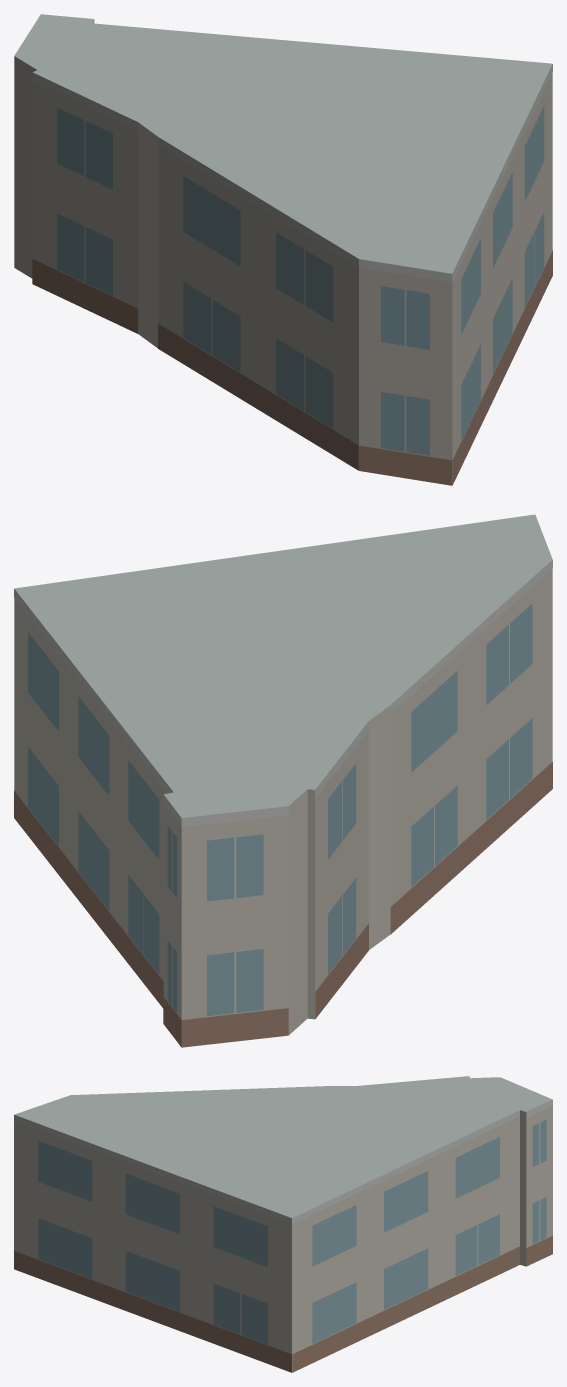
File: survey-upis-32885989.glb
3 views of the same model, one above another, from view 1: azimuth 30°, elevation 25°; view 2: azimuth 150°, elevation 25°; view 3: azimuth 270°, elevation 25° (orthographic). The views are drawn at different scales.
Parts seen in each view (by area): view 1: survey-upis-32885989.tmp; view 2: survey-upis-32885989.tmp; view 3: survey-upis-32885989.tmp.
Boxes of the visible parts, x1,y1,x2,y2 form: survey-upis-32885989.tmp: [14, 14, 552, 485]; survey-upis-32885989.tmp: [14, 514, 552, 1047]; survey-upis-32885989.tmp: [14, 1076, 552, 1372].
Bounding box in the file's own units: 12.04 × 6.1 × 19.27.
